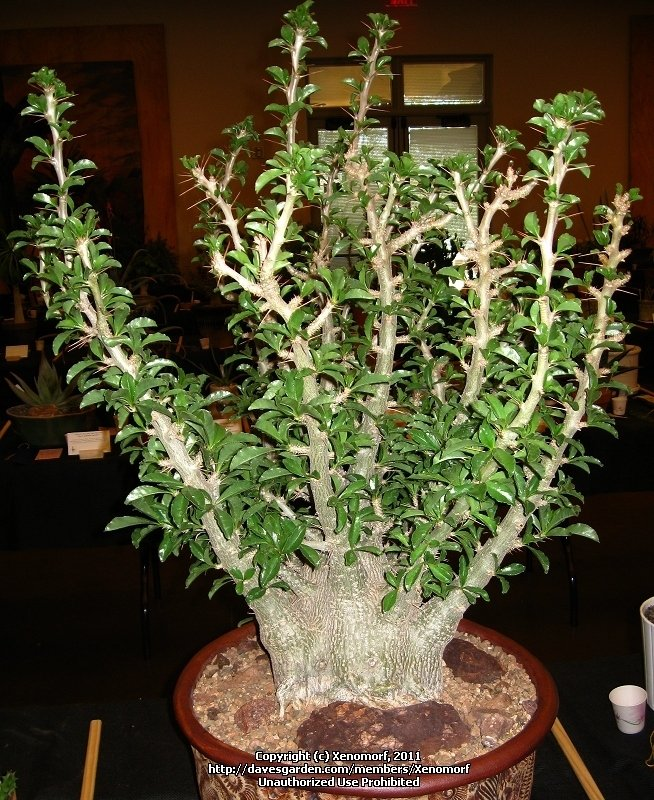Pachypodium saundersii: (18, 25, 638, 731)
